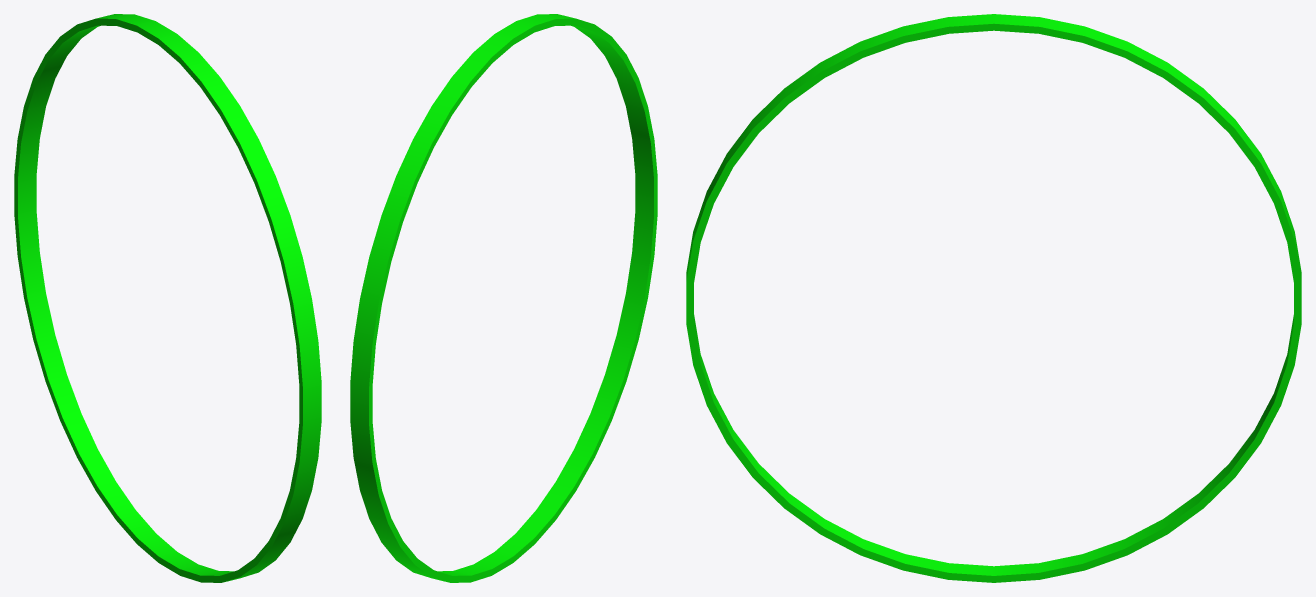
File: ring0.4.obj
3 views of the same model, side by side, from view 1: azimuth 30°, elevation 25°; view 2: azimuth 150°, elevation 25°; view 3: azimuth 270°, elevation 25° (orthographic). The views are drawn at different scales.
Parts seen in each view (by area): view 1: Body1; view 2: Body1; view 3: Body1.
Boxes of the visible parts, x1=… form: Body1: x1=14, y1=14, x2=321, y2=582; Body1: x1=350, y1=14, x2=657, y2=582; Body1: x1=686, y1=14, x2=1301, y2=582.
Bounding box in the file's own units: 0.03 × 0.8 × 0.7978.
